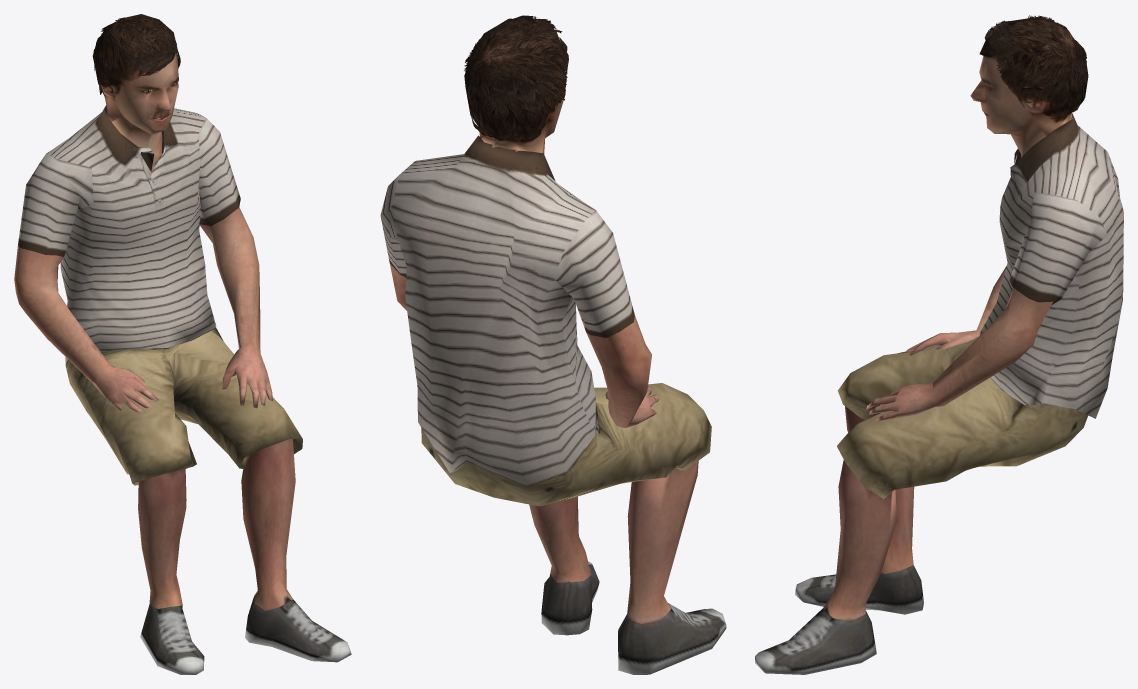
The model's file is Male_Adult_01_seated.glb.
3 renders of one model, left to right at view 1: azimuth 30°, elevation 25°; view 2: azimuth 150°, elevation 25°; view 3: azimuth 270°, elevation 25°, orthographic. The views are drawn at different scales.
Visible parts, largest first — view 1: m002_hipoly_81_bones_opacity_b; view 2: m002_hipoly_81_bones_opacity_b; view 3: m002_hipoly_81_bones_opacity_b.
Boxes of the visible parts, <box> form: m002_hipoly_81_bones_opacity_b: <box>14,14,351,674</box>; m002_hipoly_81_bones_opacity_b: <box>380,15,726,674</box>; m002_hipoly_81_bones_opacity_b: <box>755,15,1123,674</box>.
Size of the model in its own units: 0.603 by 1.5 by 0.8211.
Materials: 3 (3 with a texture image).
